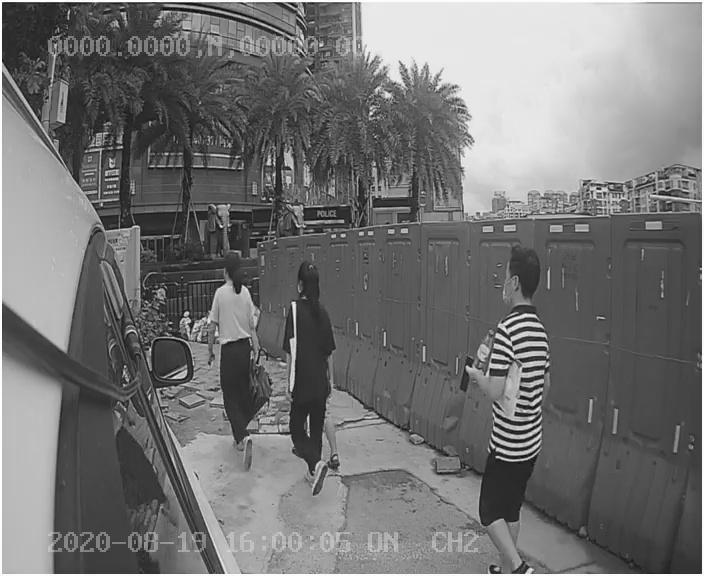person: (453, 240, 565, 532), (268, 263, 368, 498), (201, 249, 277, 472)
